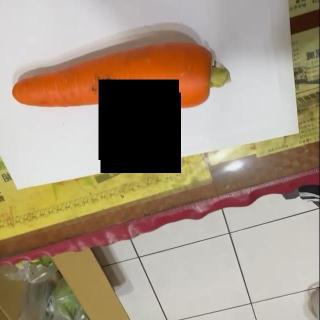carrot: (13, 40, 232, 111)
